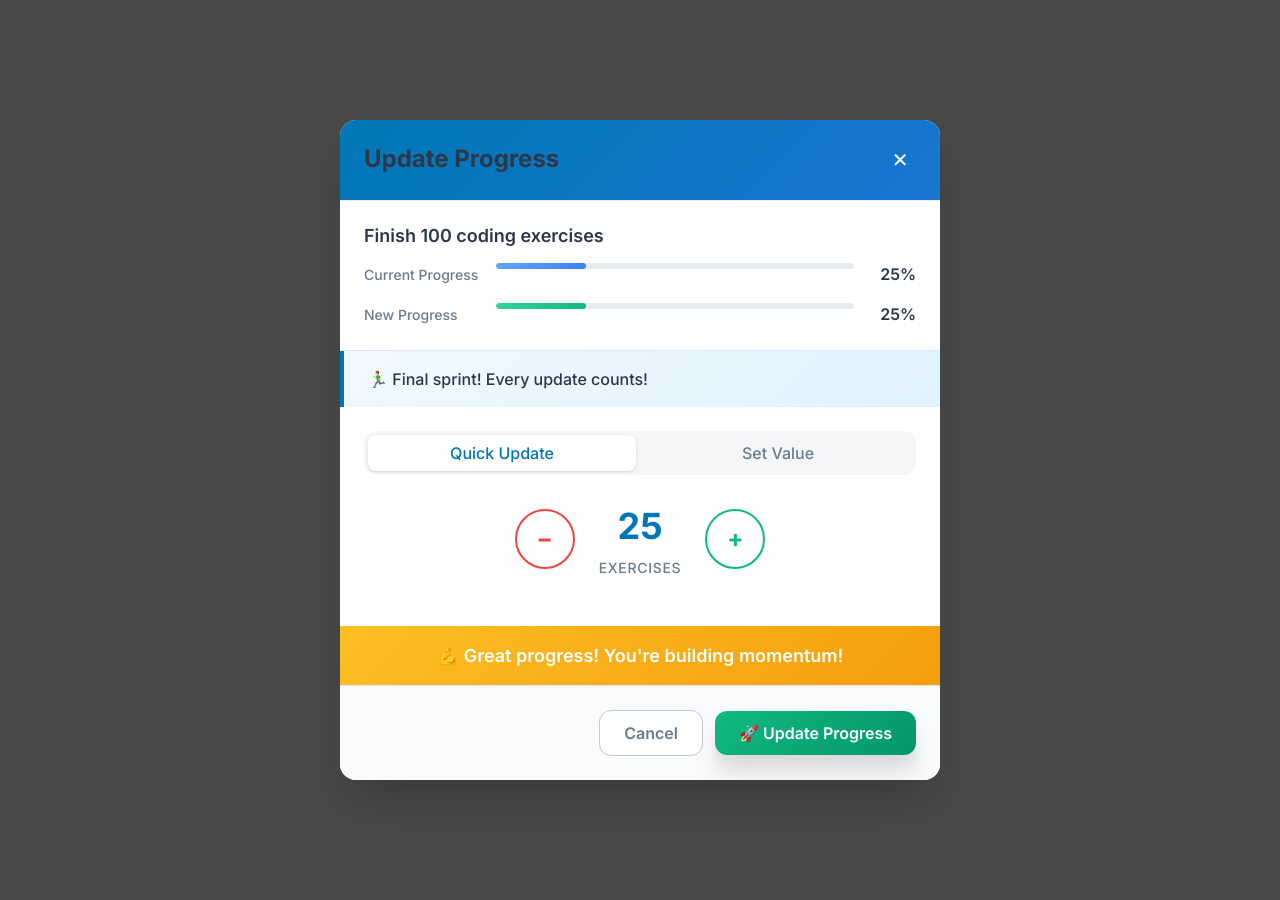
Scenario: ProgressUpdateModal › Input Methods › increment mode increases value correctly
Click the button "+" at (735, 539), box [705,509,765,569]
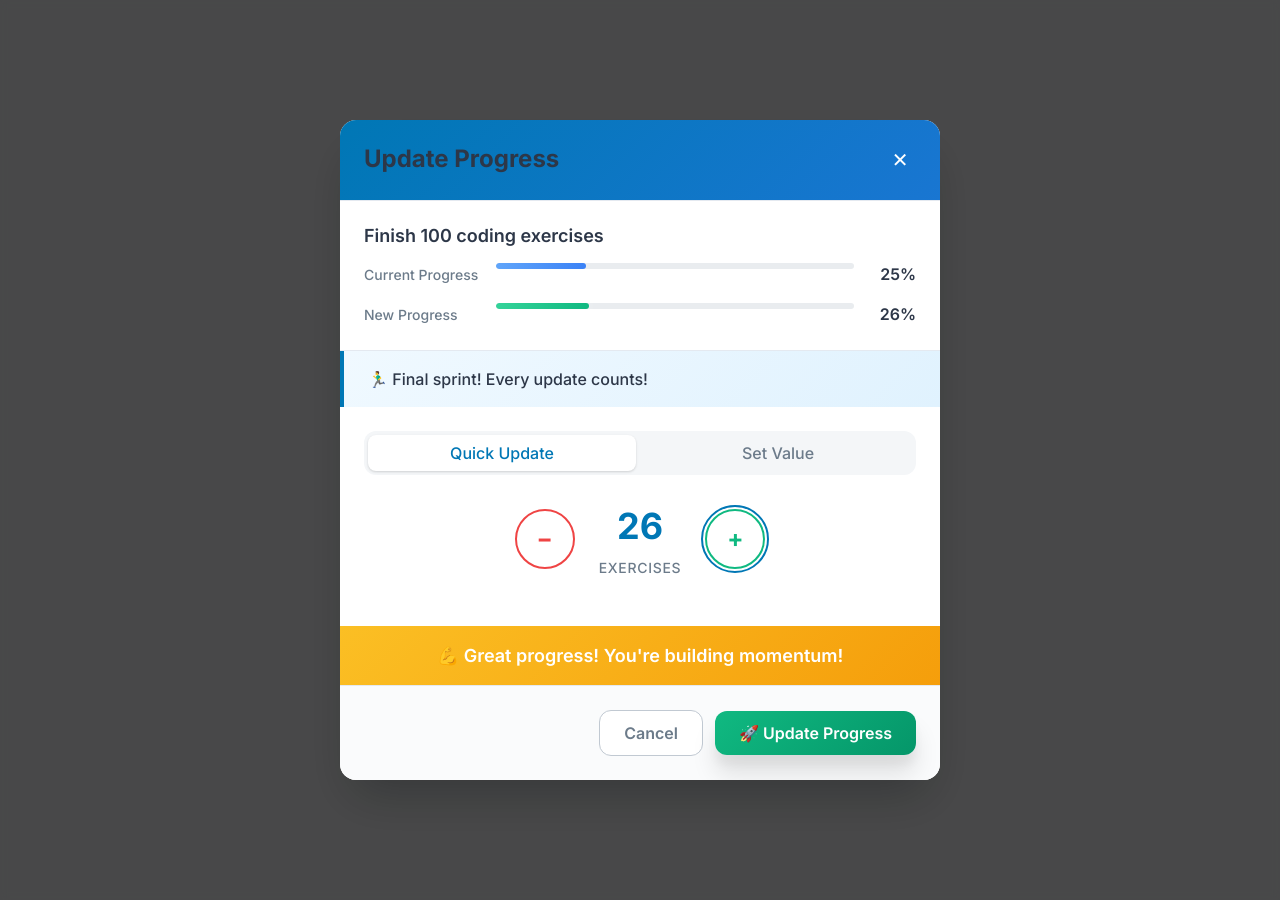
expect the text "26" is shown: met, box [617,499,663,553]
